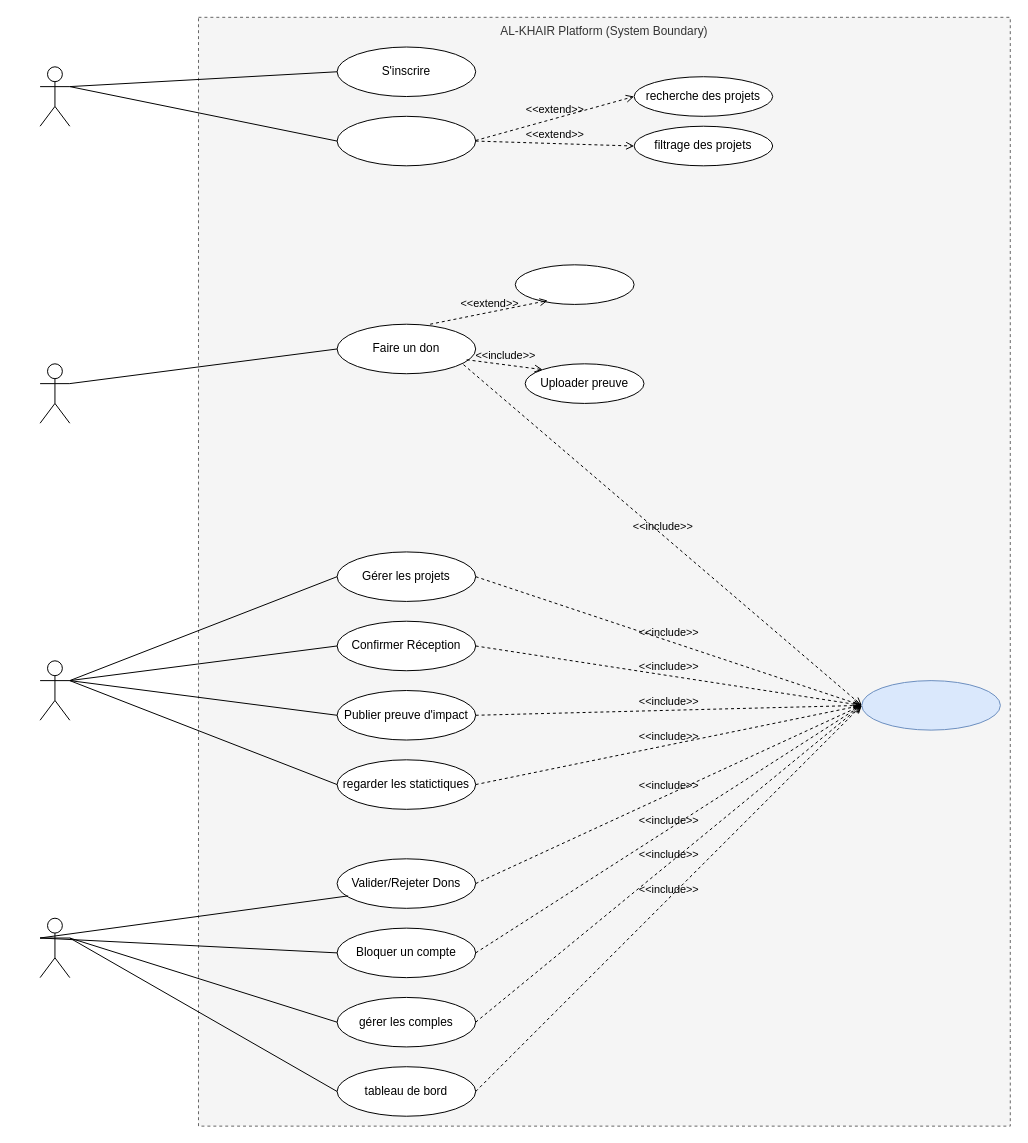
This 1028x1143 diagram has some shape labels left out. Each missing label, with the box of its shape:
Administrateur: (39, 917, 70, 978)
Association: (39, 660, 70, 720)
Consulter les projets: (336, 115, 476, 166)
Donateur: (39, 363, 70, 423)
S'authentifier: (861, 680, 1000, 730)
Télécharger Reçu: (514, 264, 634, 304)
Visiteur: (39, 66, 70, 126)
